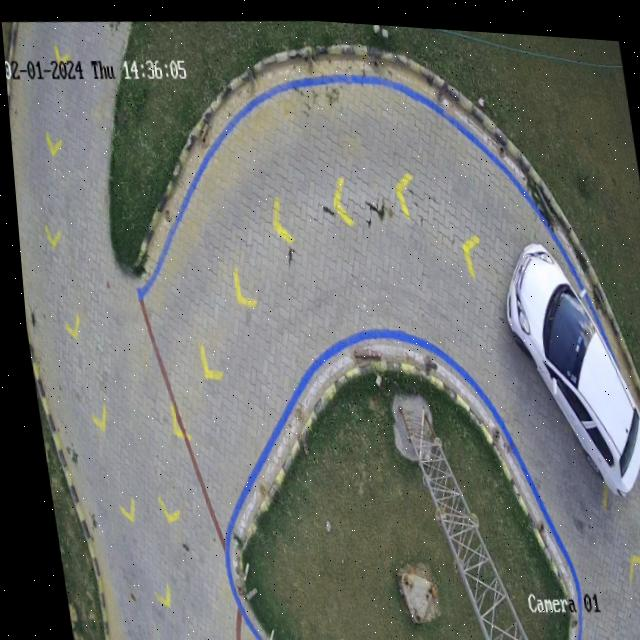car: (501, 237, 639, 488)
